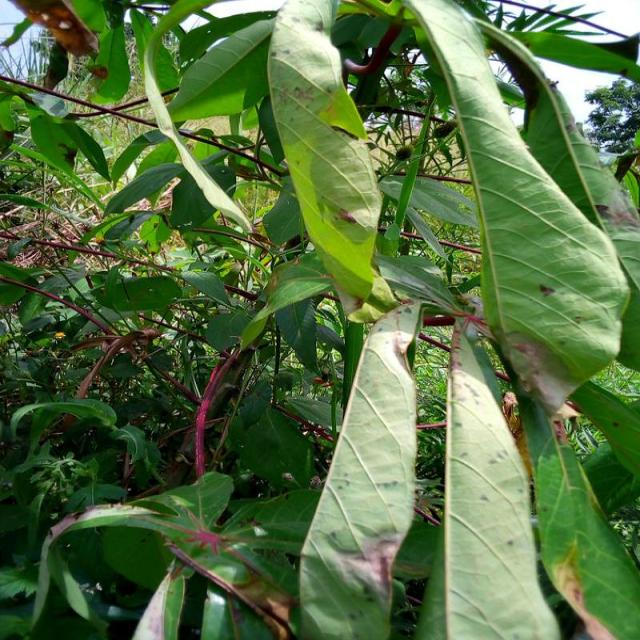cassava leaf: (401, 0, 630, 414), (296, 299, 423, 638), (442, 317, 560, 638), (265, 0, 382, 302)
